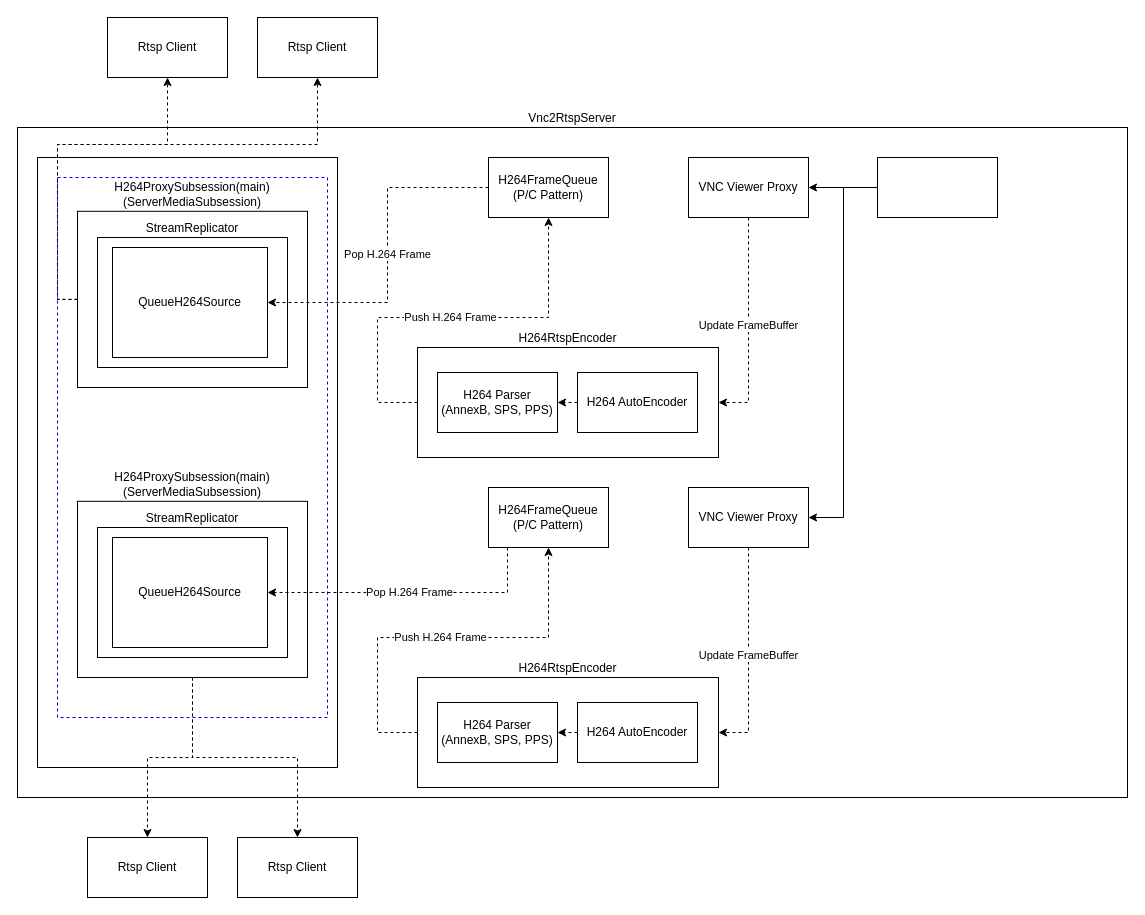
Image size: 1145x915. Some labels were removed from this diagram. Each missing label, with the box of its shape:
Live555: (56, 176, 328, 718)
RtspServer: (36, 156, 338, 768)
VNC Server: (876, 156, 998, 218)
